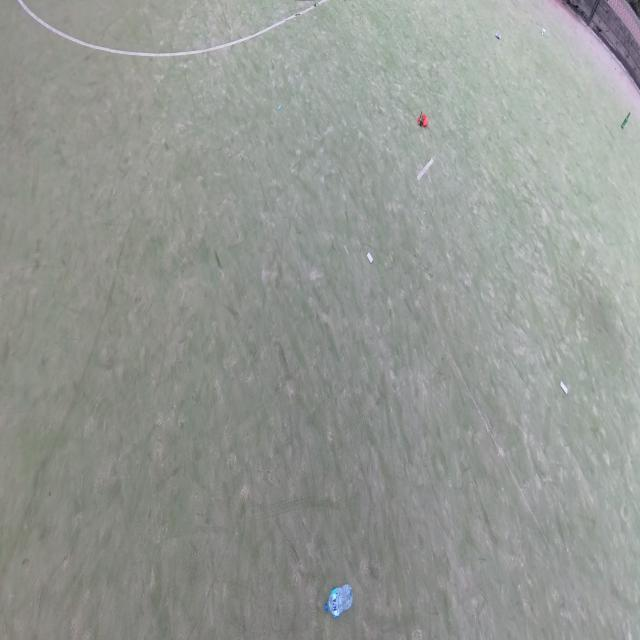rubbish: (324, 583, 354, 619), (620, 110, 631, 129), (417, 110, 429, 127), (560, 380, 568, 395), (367, 251, 373, 263), (419, 111, 423, 127), (494, 32, 500, 40), (276, 103, 281, 111), (541, 28, 545, 37)
